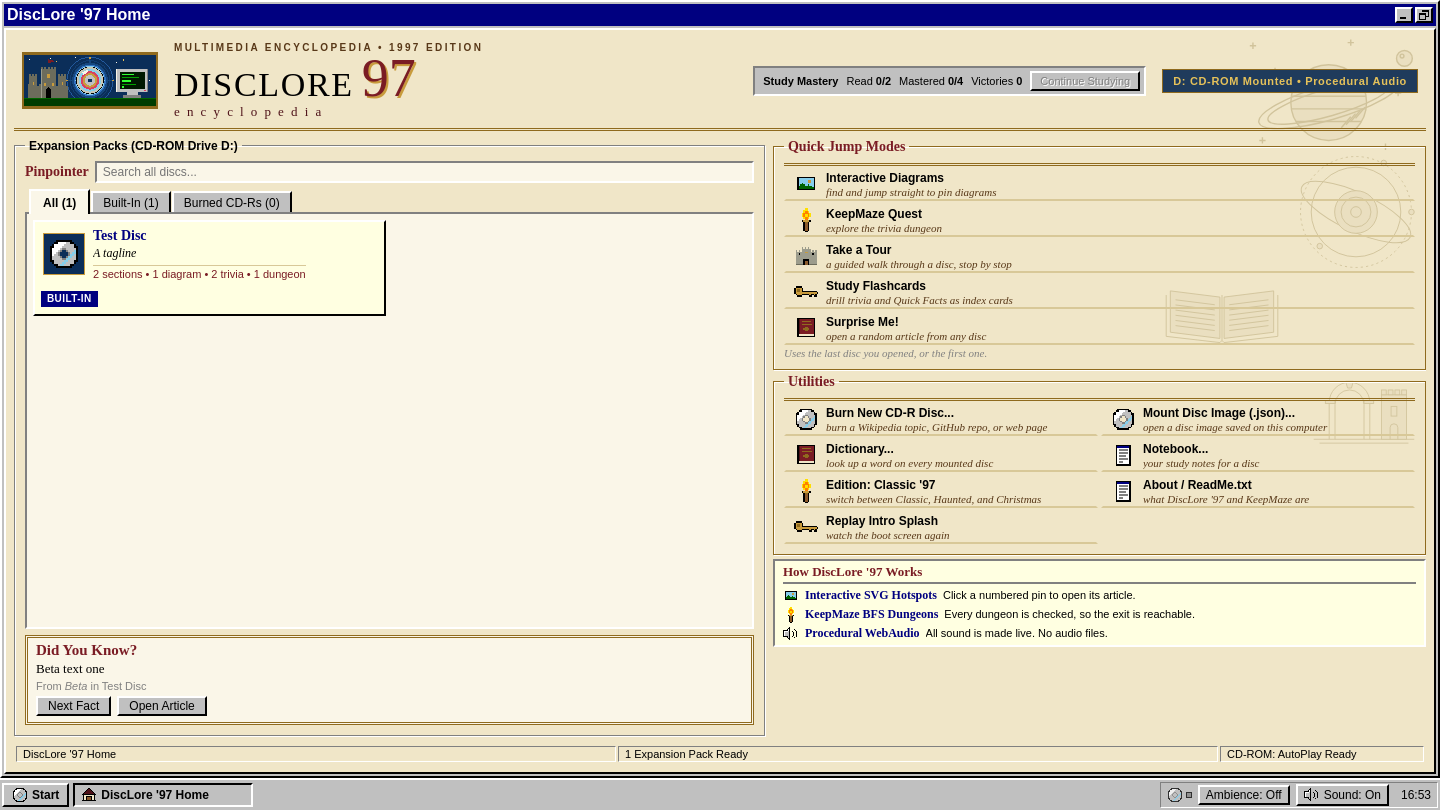
App integration › starts unmuted and toggling mute stops all new audio nodes (13.7, 13.8)
Later steps or results of the test are not shown.
What coordinates should you click on to do the following:
click the button "Sound: On"
I would click on:
 (1342, 795)
Its box is [1296,784,1389,806].
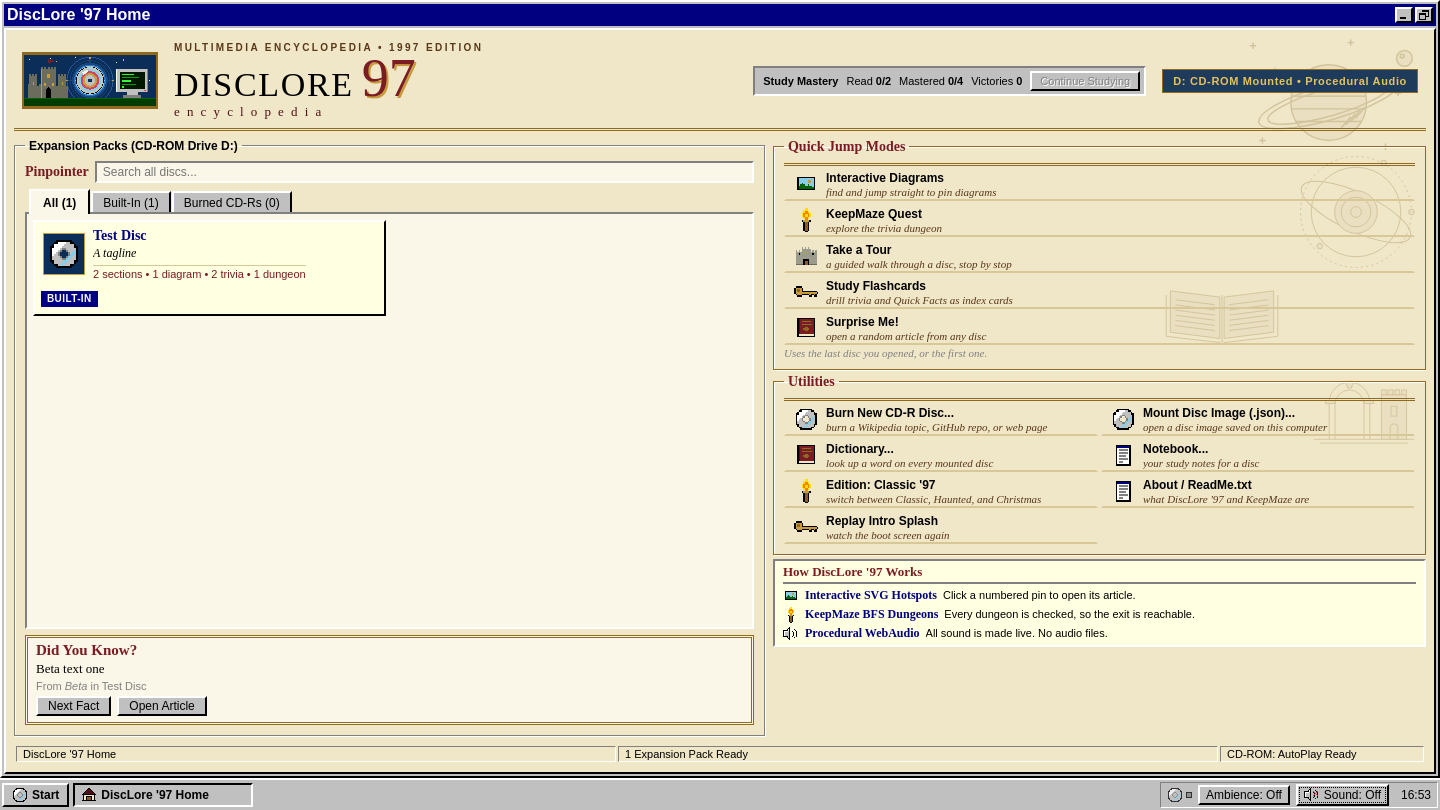
Check: the button "Sound: Off" is pressed, box [1296,784,1389,806]
